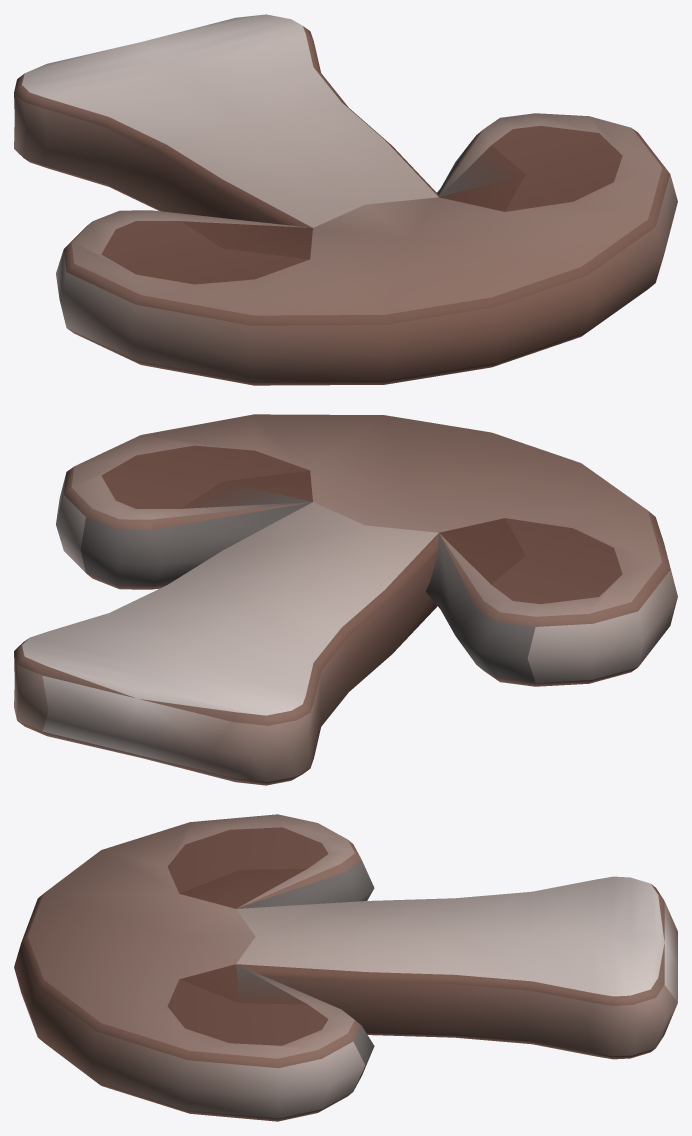
The model's file is mushroom_006.fbx.
3 views of the same model, one above another, from view 1: azimuth 30°, elevation 25°; view 2: azimuth 150°, elevation 25°; view 3: azimuth 270°, elevation 25° (orthographic). The views are drawn at different scales.
Visible parts, largest first — view 1: mushroom_006; view 2: mushroom_006; view 3: mushroom_006.
Part boxes in pixels (x1,y1,x2,y2): mushroom_006: (14,14,677,385); mushroom_006: (14,414,677,785); mushroom_006: (14,814,677,1121).
Size of the model in its own units: 6.44 by 7.06 by 0.738.
